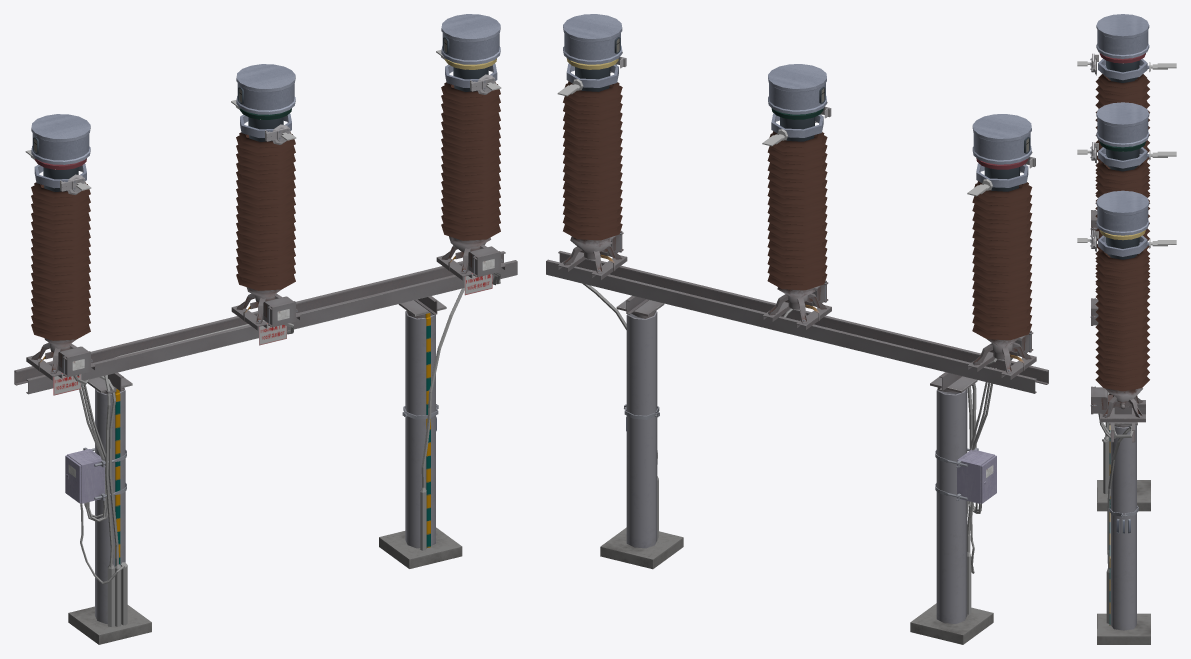
3 renders of one model, left to right at view 1: azimuth 30°, elevation 25°; view 2: azimuth 150°, elevation 25°; view 3: azimuth 270°, elevation 25°, orthographic. The views are drawn at different scales.
Parts seen in each view (by area): view 1: xd-105xl-ct, xd-105xl-ct-youweichuang, xd-105xl-ct-yinxian, xd-105xl-ct-ercijiexianhe, xd-105xl-ct-mingpai, jlhgq_jiexianhe_03, jlhgq_jiexianhe_02, jlhgq_jiexianhe_01; view 2: xd-105xl-ct, xd-105xl-ct-youweichuang, xd-105xl-ct-yinxian, xd-105xl-ct-ercijiexianhe; view 3: xd-105xl-ct, xd-105xl-ct-youweichuang, xd-105xl-ct-yinxian, jlhgq_jiexianhe_03, xd-105xl-ct_jietou01, xd-105xl-ct_jietou02, xd-105xl-ct_jietou03, jlhgq_jiexianhe_02, xd-105xl-ct_jietou06, xd-105xl-ct_jietou05, xd-105xl-ct_jietou04.
Boxes of the visible parts, x1=… form: xd-105xl-ct: x1=14, y1=81, x2=517, y2=644; xd-105xl-ct-youweichuang: x1=31, y1=14, x2=500, y2=191; xd-105xl-ct-yinxian: x1=73, y1=272, x2=500, y2=626; xd-105xl-ct-ercijiexianhe: x1=65, y1=449, x2=104, y2=503; xd-105xl-ct-mingpai: x1=53, y1=273, x2=492, y2=395; jlhgq_jiexianhe_03: x1=468, y1=246, x2=502, y2=277; jlhgq_jiexianhe_02: x1=263, y1=296, x2=297, y2=327; jlhgq_jiexianhe_01: x1=58, y1=346, x2=92, y2=377; xd-105xl-ct: x1=546, y1=81, x2=1048, y2=644; xd-105xl-ct-youweichuang: x1=563, y1=14, x2=1031, y2=191; xd-105xl-ct-yinxian: x1=582, y1=270, x2=1012, y2=614; xd-105xl-ct-ercijiexianhe: x1=957, y1=449, x2=996, y2=503; xd-105xl-ct: x1=1095, y1=74, x2=1150, y2=644; xd-105xl-ct-youweichuang: x1=1096, y1=14, x2=1149, y2=259; xd-105xl-ct-yinxian: x1=1098, y1=392, x2=1133, y2=623; jlhgq_jiexianhe_03: x1=1090, y1=386, x2=1107, y2=414; xd-105xl-ct_jietou01: x1=1077, y1=53, x2=1098, y2=75; xd-105xl-ct_jietou02: x1=1077, y1=142, x2=1098, y2=163; xd-105xl-ct_jietou03: x1=1077, y1=230, x2=1098, y2=252; jlhgq_jiexianhe_02: x1=1090, y1=298, x2=1098, y2=325; xd-105xl-ct_jietou06: x1=1149, y1=62, x2=1176, y2=71; xd-105xl-ct_jietou05: x1=1149, y1=150, x2=1176, y2=160; xd-105xl-ct_jietou04: x1=1149, y1=239, x2=1176, y2=248.
Bounding box in the file's own units: 4263 × 4273 × 847.
